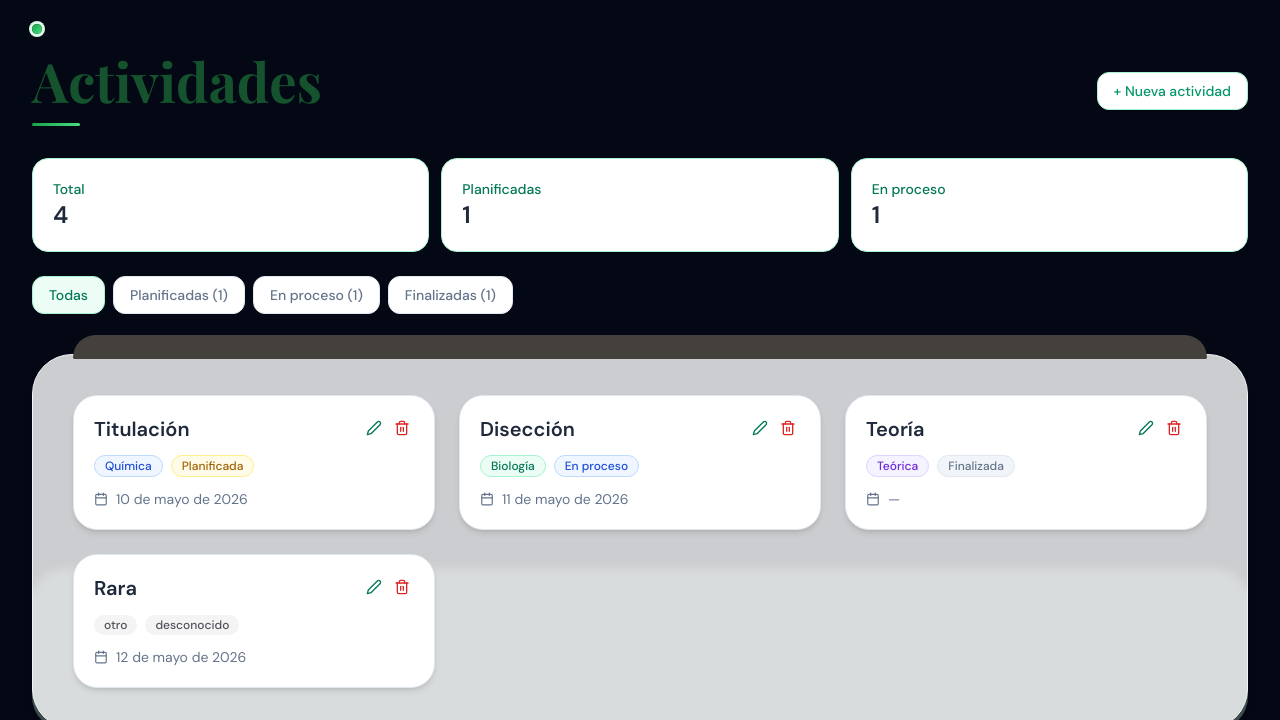
Scenario: Actividades Page › los tabs filtran la lista
The width and height of the screenshot is (1280, 720).
Click the button "Planificadas (1)" at (179, 295), box [113,276,245,314]
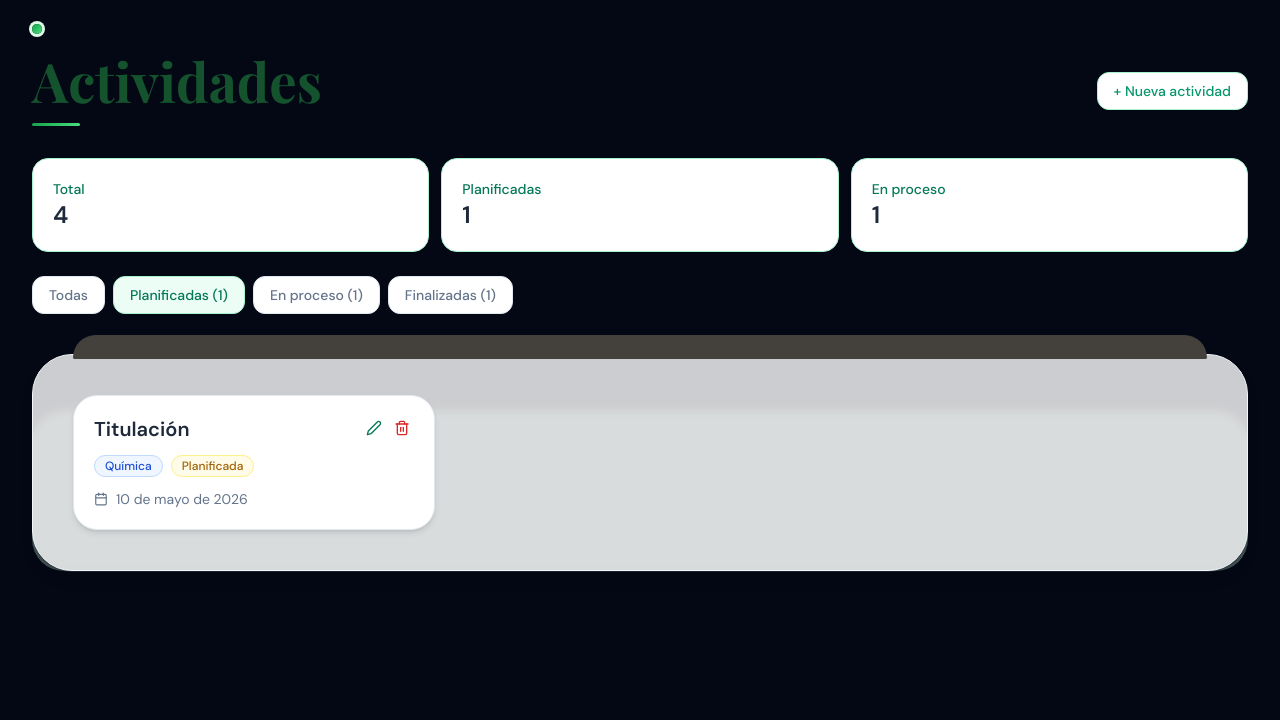
Expected: the heading "Titulación" is shown, [94,416,198,443]
Result: the heading "Disección" is gone
Click the button "Finalizadas (1)" at (450, 295), box [388,276,513,314]
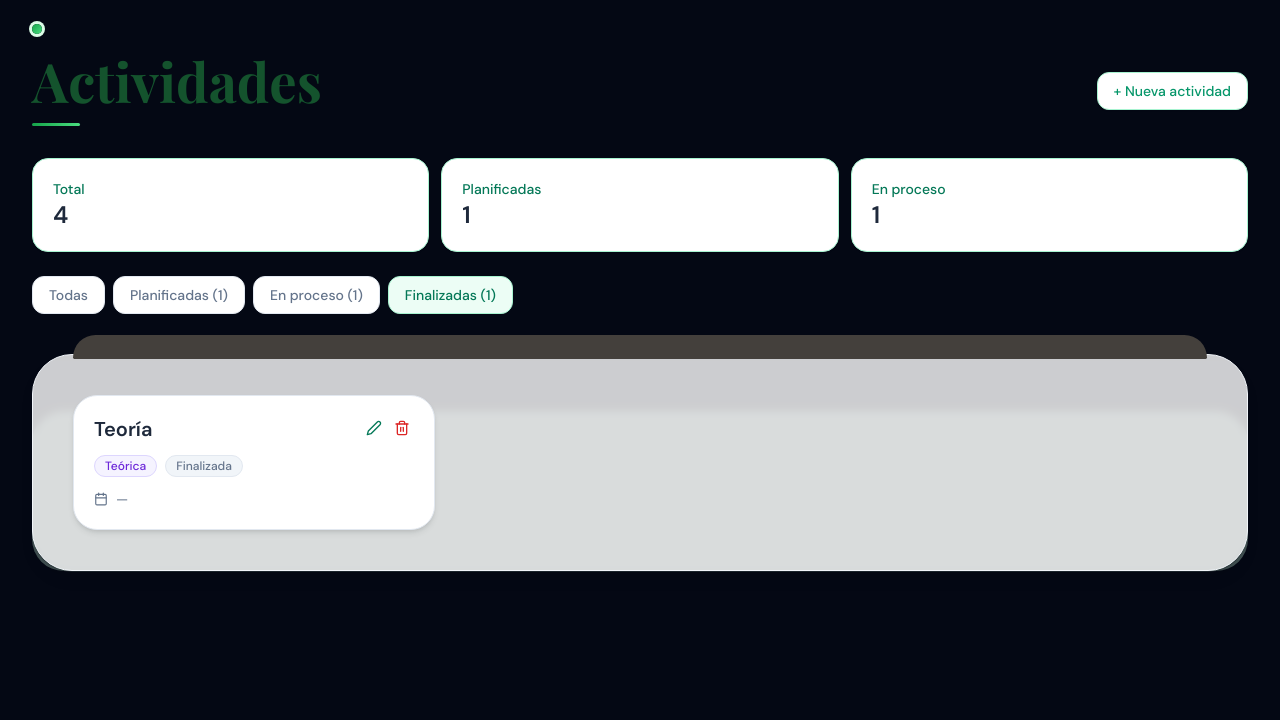
Result: the heading "Teoría" is shown at [94,416,160,443]
Result: the heading "Titulación" is gone
Click the button "Todas" at (68, 295), box [32,276,105,314]
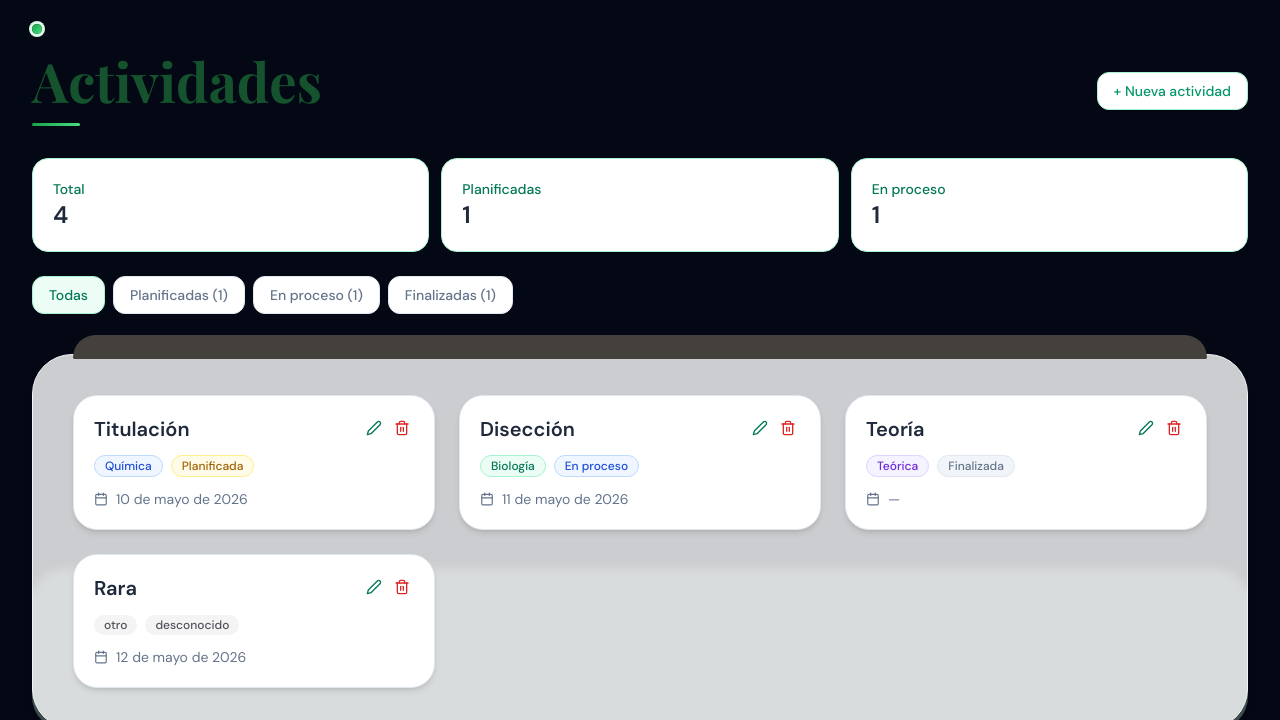
Result: the heading "Titulación" is shown at [94,416,198,443]
